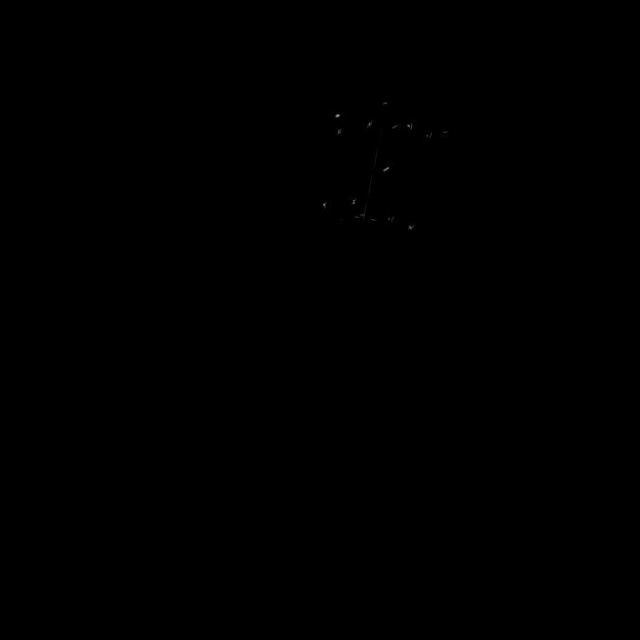medium_debris: (286, 66, 469, 269)
